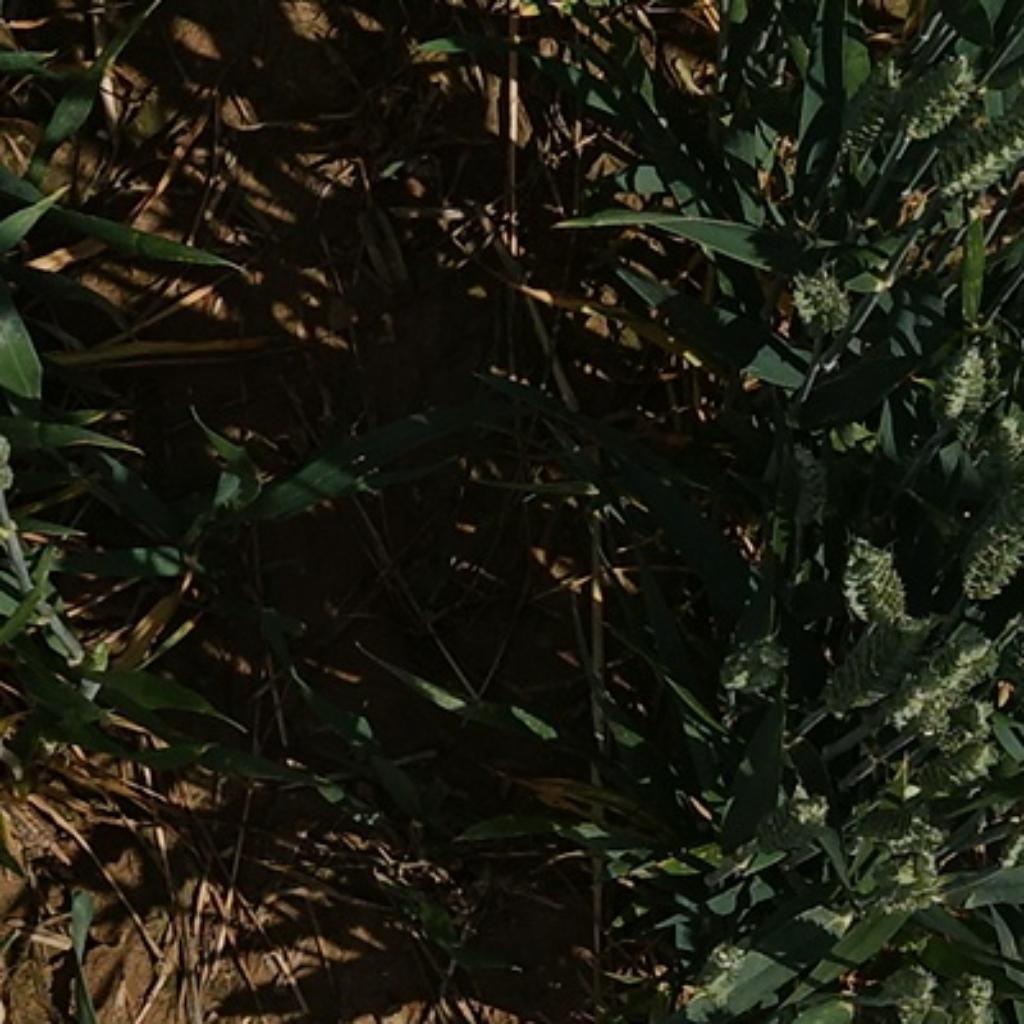0-0: (909, 648, 1010, 749), (829, 618, 929, 716), (930, 112, 1023, 205), (926, 327, 1006, 430), (828, 87, 915, 178), (832, 529, 911, 622), (952, 504, 1024, 606), (711, 616, 796, 698), (903, 55, 980, 140), (750, 785, 837, 857), (783, 258, 857, 340), (861, 844, 945, 916), (783, 435, 847, 527), (695, 944, 773, 1002), (852, 805, 952, 846)
